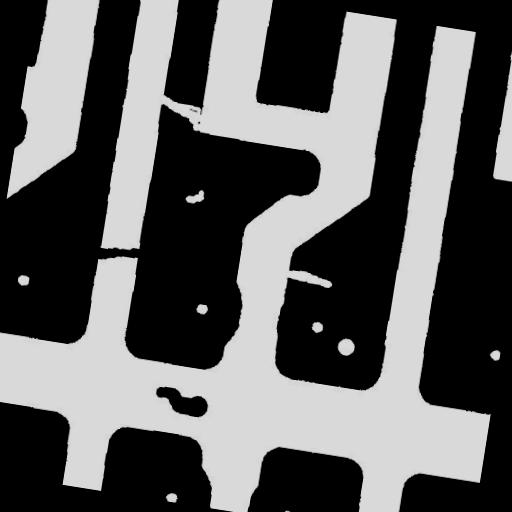copper: (144, 376, 218, 426)
mousebite: (275, 258, 342, 296)
open: (145, 84, 219, 140)
pin-hole: (327, 328, 364, 364), (175, 178, 213, 212)
short: (83, 233, 152, 274)
